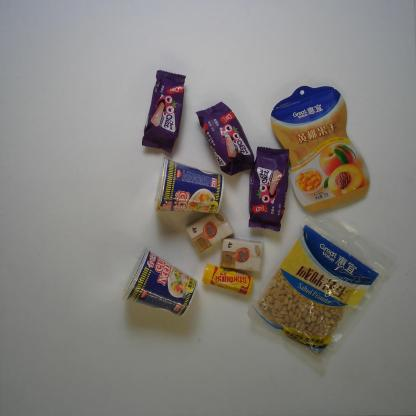Candy: (198, 264, 257, 298)
Dessert: (194, 100, 259, 181), (136, 68, 190, 156), (245, 144, 297, 234)
Dried Fruit: (244, 202, 397, 373), (269, 82, 372, 214)
Instant Noodles: (117, 247, 202, 319), (151, 157, 229, 217)
Tissue: (181, 206, 236, 257), (216, 234, 266, 276)
